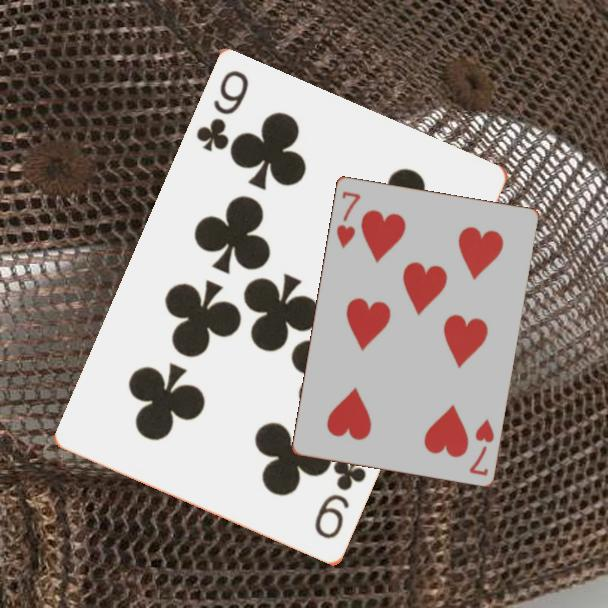c09: (192, 67, 252, 156), (311, 454, 370, 543)
h07: (465, 415, 497, 478), (332, 188, 363, 251)
